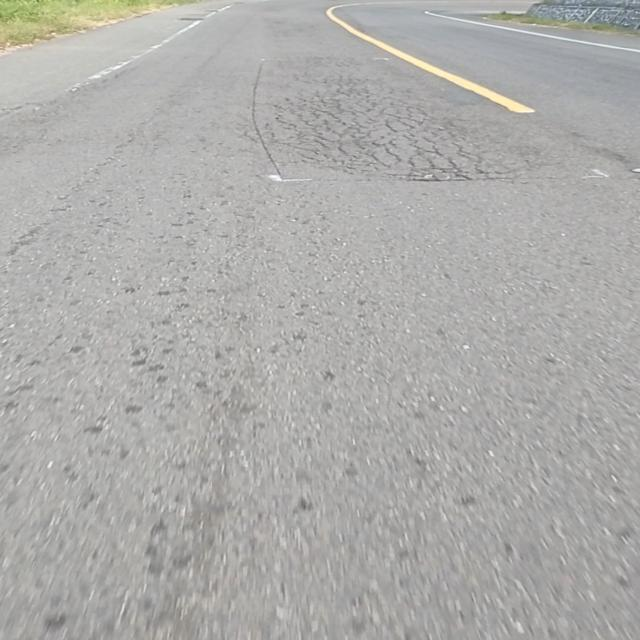Retak Buaya: (257, 51, 489, 185)
